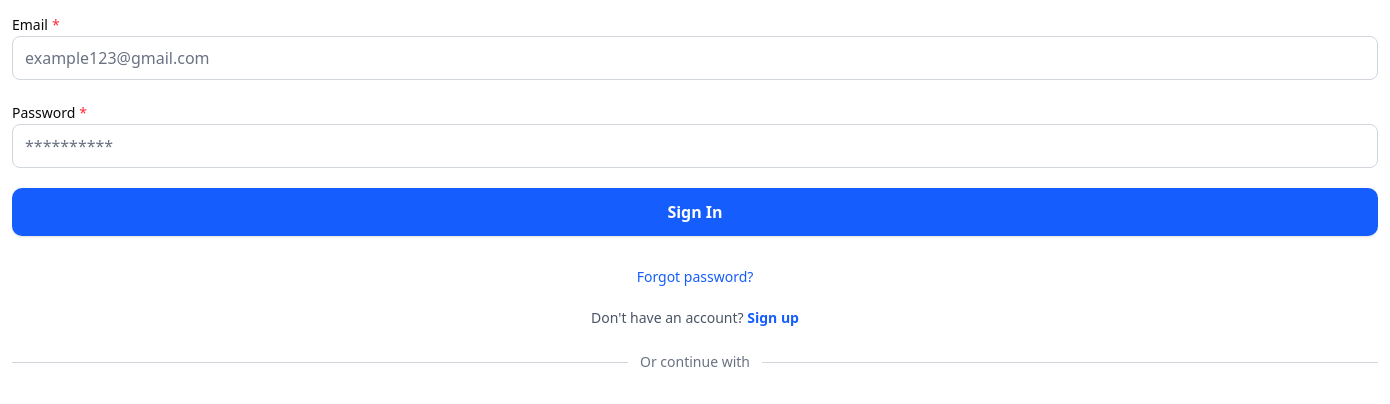
Test: LoginForm › shows validation error for short password
Type "test@example.com" into the field labelled "Email*" at (695, 58), box [12, 36, 1378, 80]
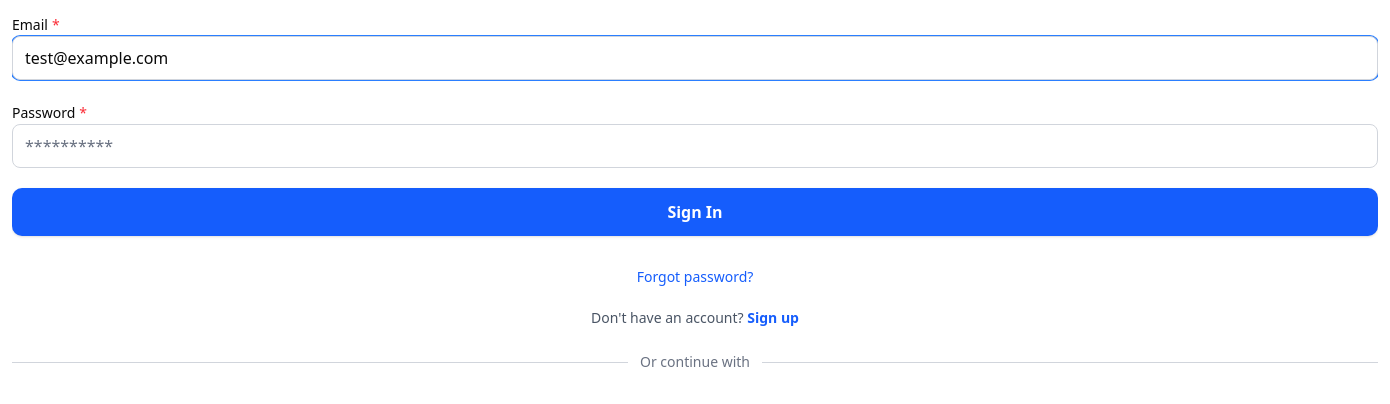
Type "12345" into the password field labelled "Password*" at (695, 146), box [12, 124, 1378, 168]
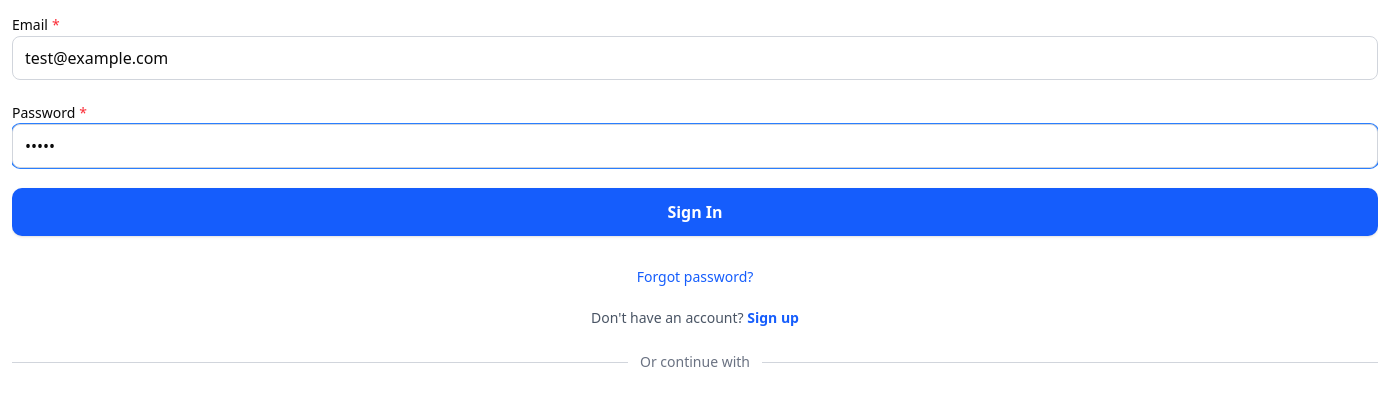
Click the button "Sign In" at (695, 212), box [12, 188, 1378, 236]
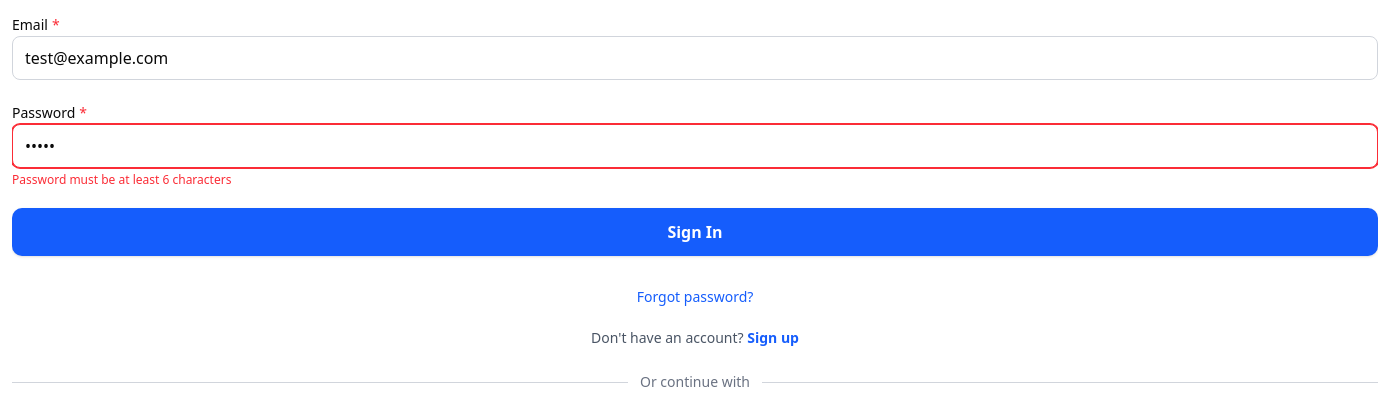
Check: the text "Password must be at least 6 characters" is shown, box [12, 171, 231, 188]
